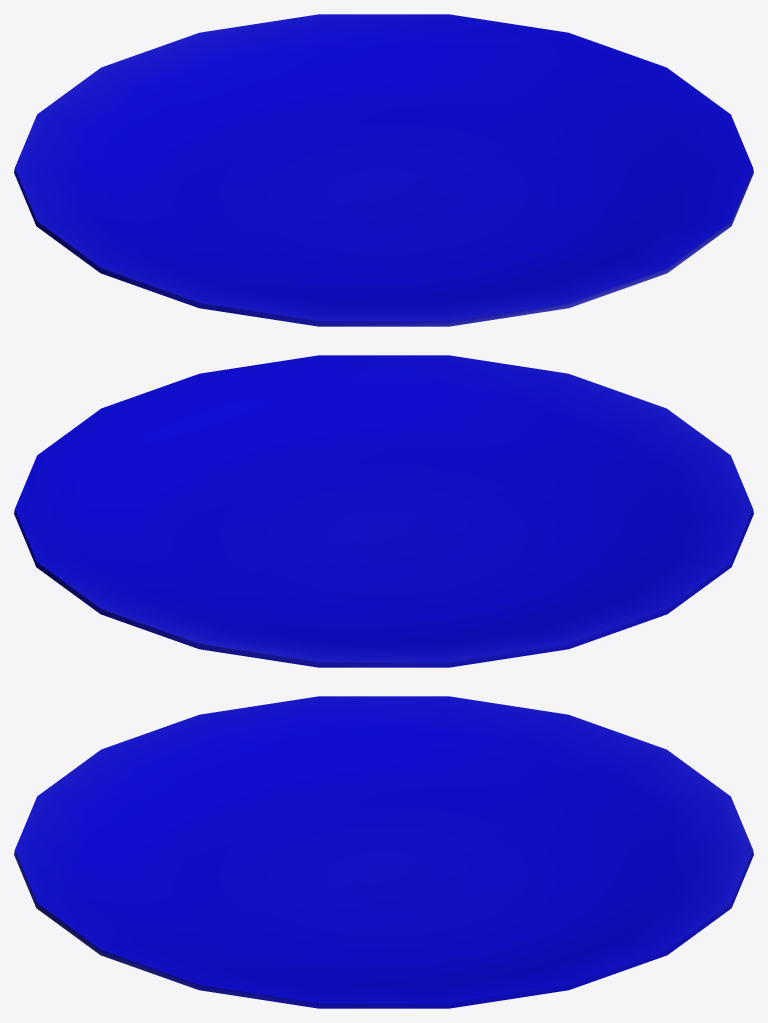
Rendered from flat_plate.fbx.
3 views of the same model, one above another, from view 1: azimuth 30°, elevation 25°; view 2: azimuth 150°, elevation 25°; view 3: azimuth 270°, elevation 25° (orthographic).
Visible parts, largest first — view 1: FlatPlate; view 2: FlatPlate; view 3: FlatPlate.
Part boxes in pixels (left/top/right/bottom): FlatPlate: left=14, top=14, right=753, bottom=326; FlatPlate: left=14, top=355, right=753, bottom=667; FlatPlate: left=14, top=696, right=753, bottom=1008.
Bounding box in the file's own units: 40.53 × 2.57 × 41.16.
